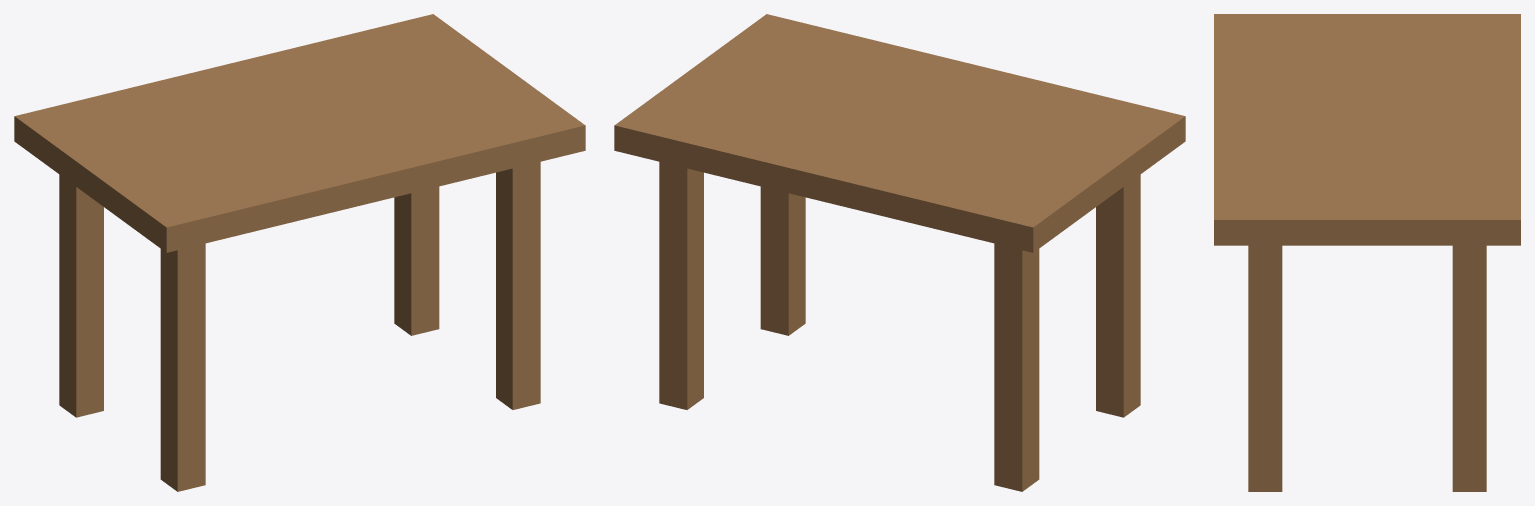
Rendered from Table.fbx.
3 views of the same model, side by side, from view 1: azimuth 30°, elevation 25°; view 2: azimuth 150°, elevation 25°; view 3: azimuth 270°, elevation 25° (orthographic).
Visible parts, largest first — view 1: Cube; view 2: Cube; view 3: Cube.
Part boxes in pixels (x1,y1,x2,y2): Cube: (14,14,585,491); Cube: (614,14,1185,491); Cube: (1214,14,1520,491).
Size of the model in its own units: 200 by 129 by 126.
